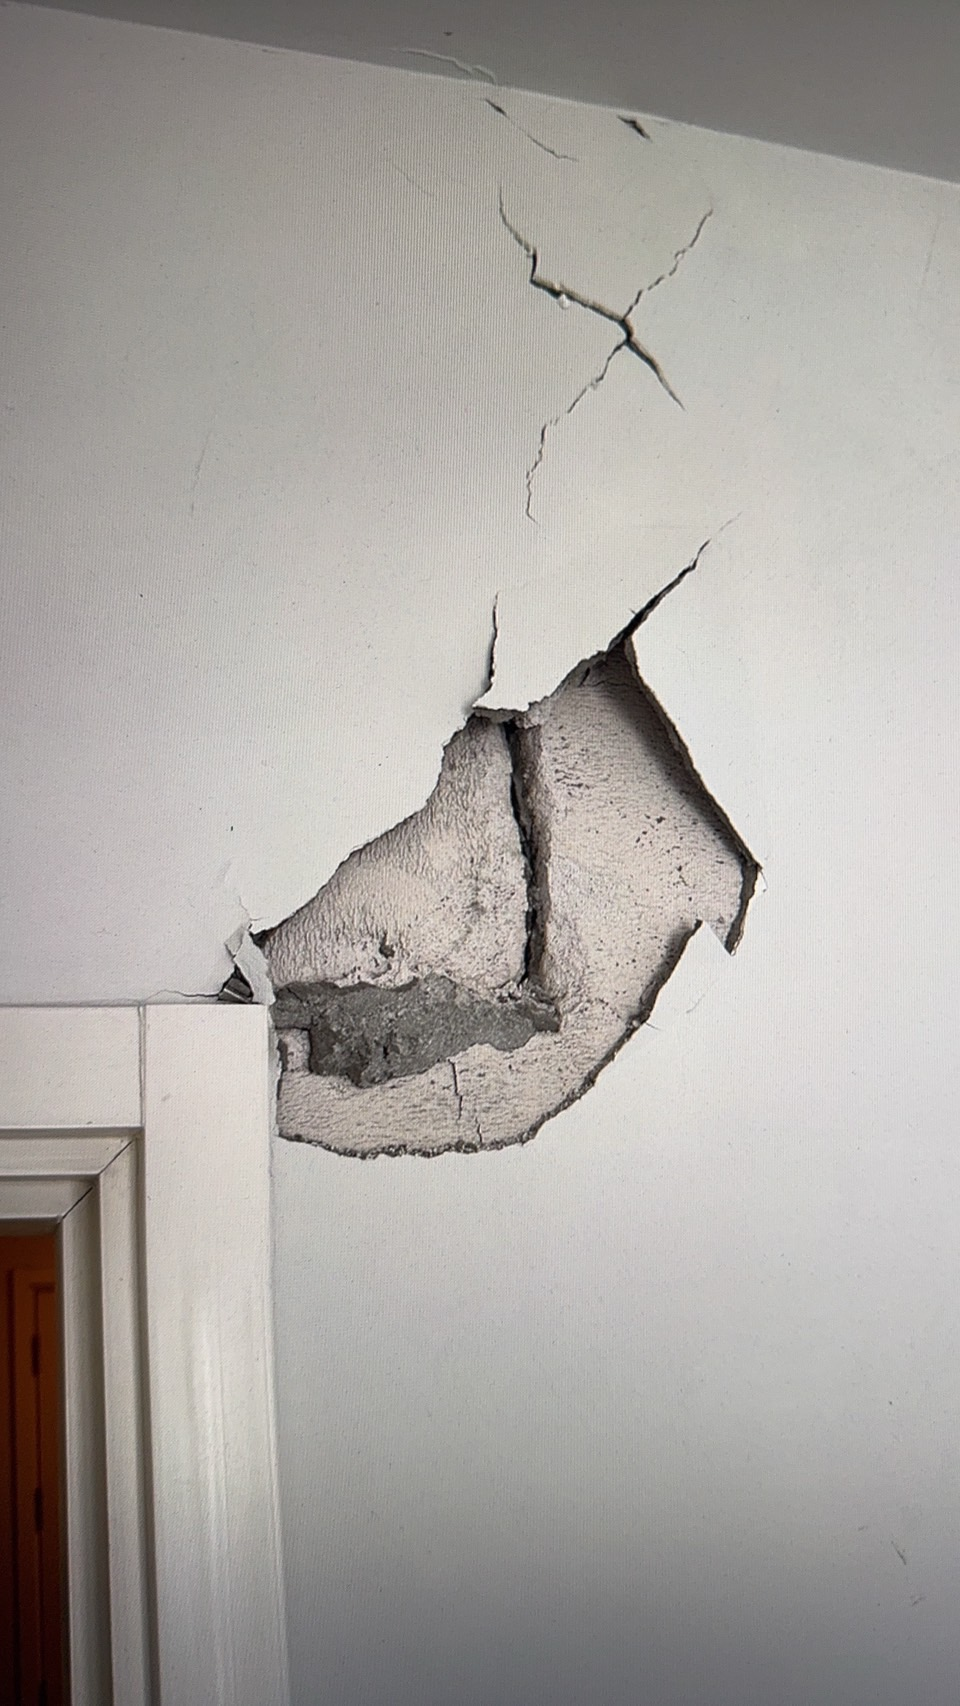Medium: (292, 196, 776, 1144)
